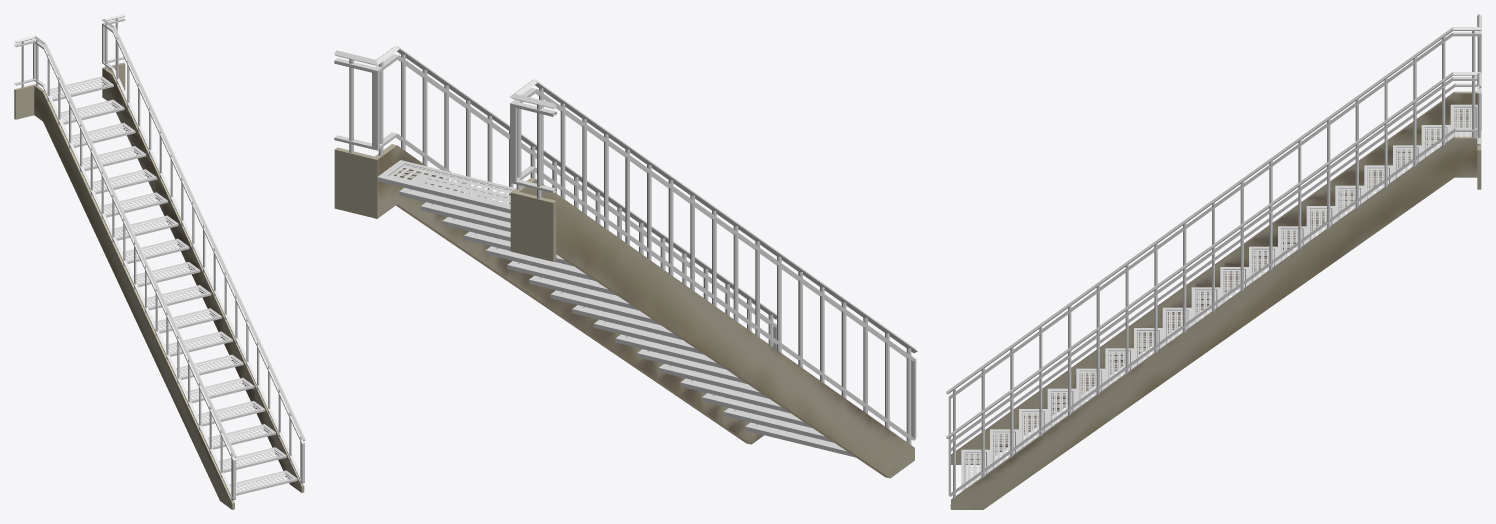
File: Stairs1.fbx
3 renders of one model, left to right at view 1: azimuth 30°, elevation 25°; view 2: azimuth 150°, elevation 25°; view 3: azimuth 270°, elevation 25°, orthographic. The views are drawn at different scales.
Parts seen in each view (by area): view 1: Cube.006, Cube.001, Cube.003; view 2: Cube.003, Cube.006, Cube.001; view 3: Cube.003, Cube.006, Cube.001.
Boxes of the visible parts, x1,y1,x2,y2 form: Cube.006: [14, 14, 305, 501]; Cube.001: [50, 76, 297, 495]; Cube.003: [14, 62, 304, 509]; Cube.003: [334, 144, 914, 478]; Cube.006: [334, 45, 917, 444]; Cube.001: [377, 160, 855, 457]; Cube.003: [950, 91, 1481, 509]; Cube.006: [946, 14, 1481, 498]; Cube.001: [961, 104, 1477, 491].
Size of the model in its own units: 200 by 574 by 638.
